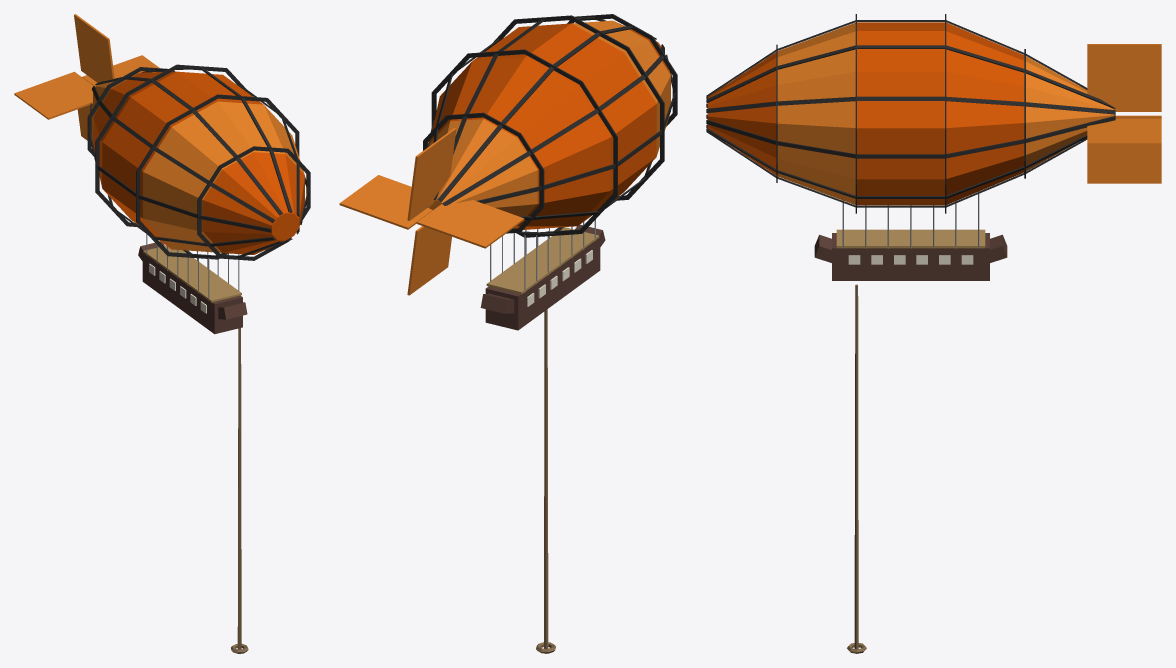
Rendered from moebiusAirship.glb.
The picture shows the model from 3 angles, left to right: view 1: azimuth 30°, elevation 25°; view 2: azimuth 150°, elevation 25°; view 3: azimuth 270°, elevation 25°; orthographic projection. The views are drawn at different scales.
Visible parts, largest first — view 1: envelope-slice-1, envelope-slice-2, envelope-slice-0, gondola-cabin, n212, n277, n209, envelope-slice-3, airship-board-rope, n206; view 2: envelope-slice-3, envelope-slice-2, envelope-slice-4, gondola-cabin, n212, n277, n206, n209, envelope-slice-1, n215, airship-board-rope, n251 (+2 smaller); view 3: envelope-slice-2, envelope-slice-1, envelope-slice-3, gondola-cabin, n209, envelope-slice-0, envelope-slice-4, n215, n277, n206, airship-board-rope.
Part boxes in pixels (x1=…): envelope-slice-1: x1=143, y1=101, x2=304, y2=252; envelope-slice-2: x1=102, y1=71, x2=263, y2=248; envelope-slice-0: x1=203, y1=152, x2=304, y2=254; gondola-cabin: x1=142, y1=252, x2=242, y2=334; n212: x1=14, y1=71, x2=93, y2=119; n277: x1=143, y1=245, x2=241, y2=302; n209: x1=74, y1=14, x2=114, y2=82; envelope-slice-3: x1=93, y1=71, x2=176, y2=187; airship-board-rope: x1=237, y1=328, x2=241, y2=653; n206: x1=82, y1=55, x2=159, y2=86; envelope-slice-3: x1=429, y1=57, x2=609, y2=229; envelope-slice-2: x1=473, y1=23, x2=656, y2=225; envelope-slice-4: x1=429, y1=119, x2=537, y2=226; gondola-cabin: x1=485, y1=236, x2=600, y2=330; n212: x1=416, y1=200, x2=524, y2=248; n277: x1=486, y1=227, x2=599, y2=294; n206: x1=339, y1=175, x2=432, y2=229; n209: x1=407, y1=128, x2=456, y2=220; envelope-slice-1: x1=572, y1=20, x2=670, y2=155; n215: x1=407, y1=226, x2=451, y2=295; airship-board-rope: x1=544, y1=309, x2=548, y2=653; n251: x1=480, y1=293, x2=514, y2=313; envelope-slice-2: x1=857, y1=22, x2=944, y2=205; envelope-slice-1: x1=777, y1=22, x2=855, y2=204; envelope-slice-3: x1=946, y1=22, x2=1024, y2=204; gondola-cabin: x1=832, y1=233, x2=989, y2=280; n209: x1=1087, y1=44, x2=1161, y2=111; envelope-slice-0: x1=707, y1=52, x2=776, y2=175; envelope-slice-4: x1=1026, y1=56, x2=1114, y2=171; n215: x1=1087, y1=115, x2=1161, y2=183; n277: x1=836, y1=229, x2=985, y2=248; n206: x1=1087, y1=118, x2=1161, y2=145; airship-board-rope: x1=854, y1=284, x2=858, y2=653.
Size of the model in its own units: 4.56 by 15.11 by 10.09.
